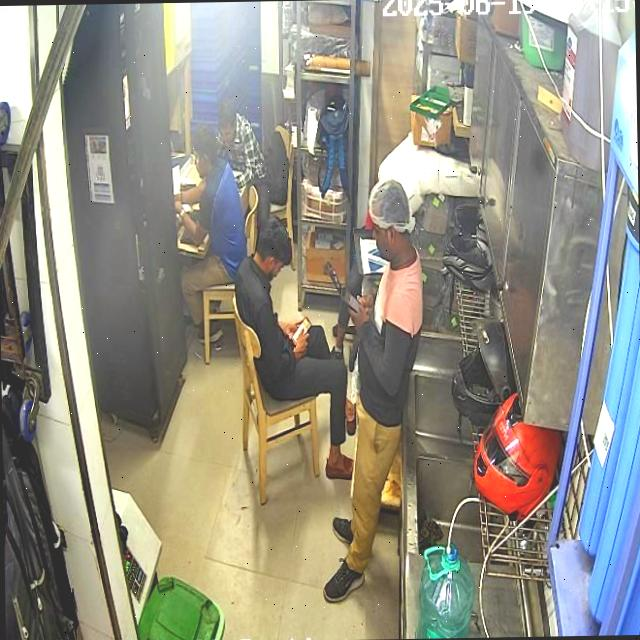helmet: (472, 391, 562, 510), (450, 317, 514, 421), (253, 214, 292, 278)
